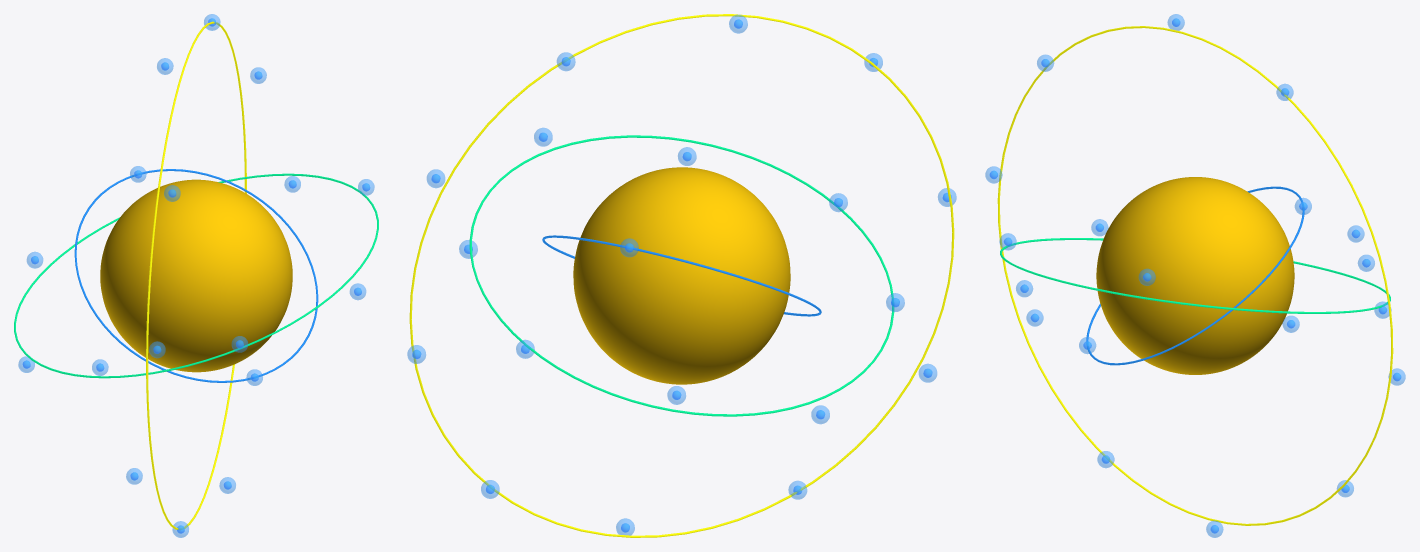
3 renders of one model, left to right at view 1: azimuth 30°, elevation 25°; view 2: azimuth 150°, elevation 25°; view 3: azimuth 270°, elevation 25°, orthographic. The views are drawn at different scales.
Visible parts, largest first — view 1: Ca, object 24, object 7, object 2; view 2: Ca, object 24, object 7, object 2; view 3: Ca, object 24, object 7, object 2.
Boxes of the visible parts, x1,y1,x2,y2 form: Ca: (100, 179, 292, 372); object 24: (146, 21, 246, 529); object 7: (14, 173, 378, 378); object 2: (74, 169, 318, 382); Ca: (573, 167, 790, 384); object 24: (409, 14, 954, 537); object 7: (469, 135, 894, 416); object 2: (542, 235, 821, 316); Ca: (1096, 177, 1294, 374); object 24: (997, 26, 1393, 525); object 7: (1000, 238, 1390, 313); object 2: (1086, 186, 1304, 365).
Size of the model in its own units: 3.47 by 4.88 by 3.86.
